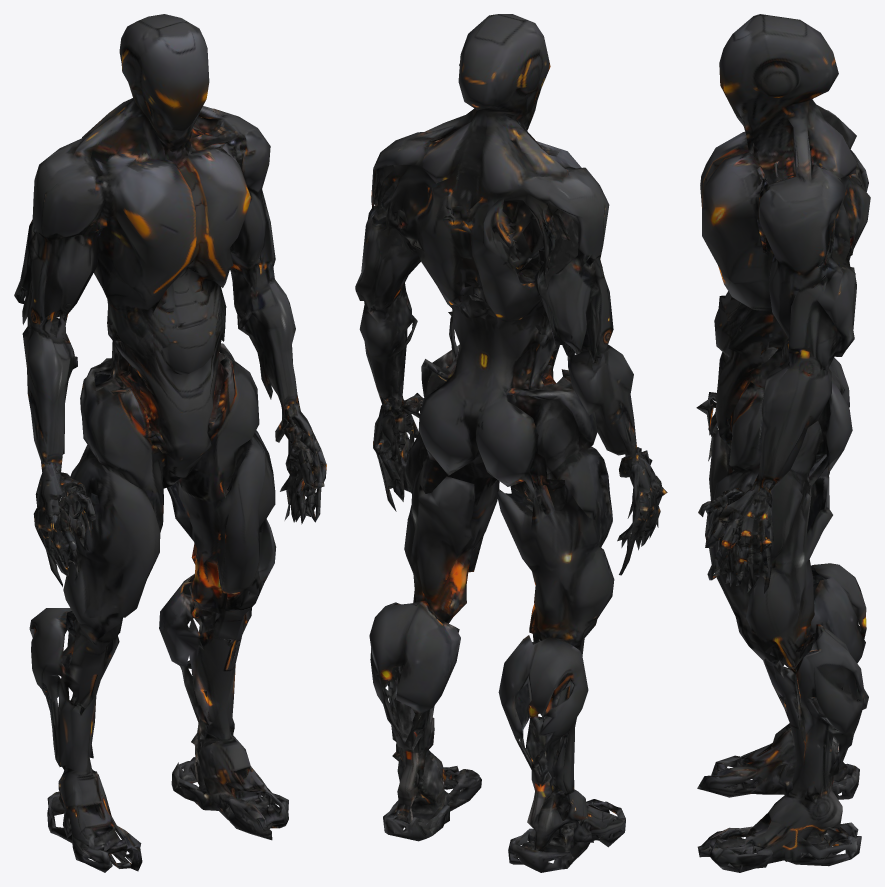
File: Neon_Sentinel_0521111637_texture.glb
3 views of the same model, side by side, from view 1: azimuth 30°, elevation 25°; view 2: azimuth 150°, elevation 25°; view 3: azimuth 270°, elevation 25° (orthographic).
Bounding box in the file's own units: 0.7128 × 1.99 × 0.392.
1 material, 1 textured.
